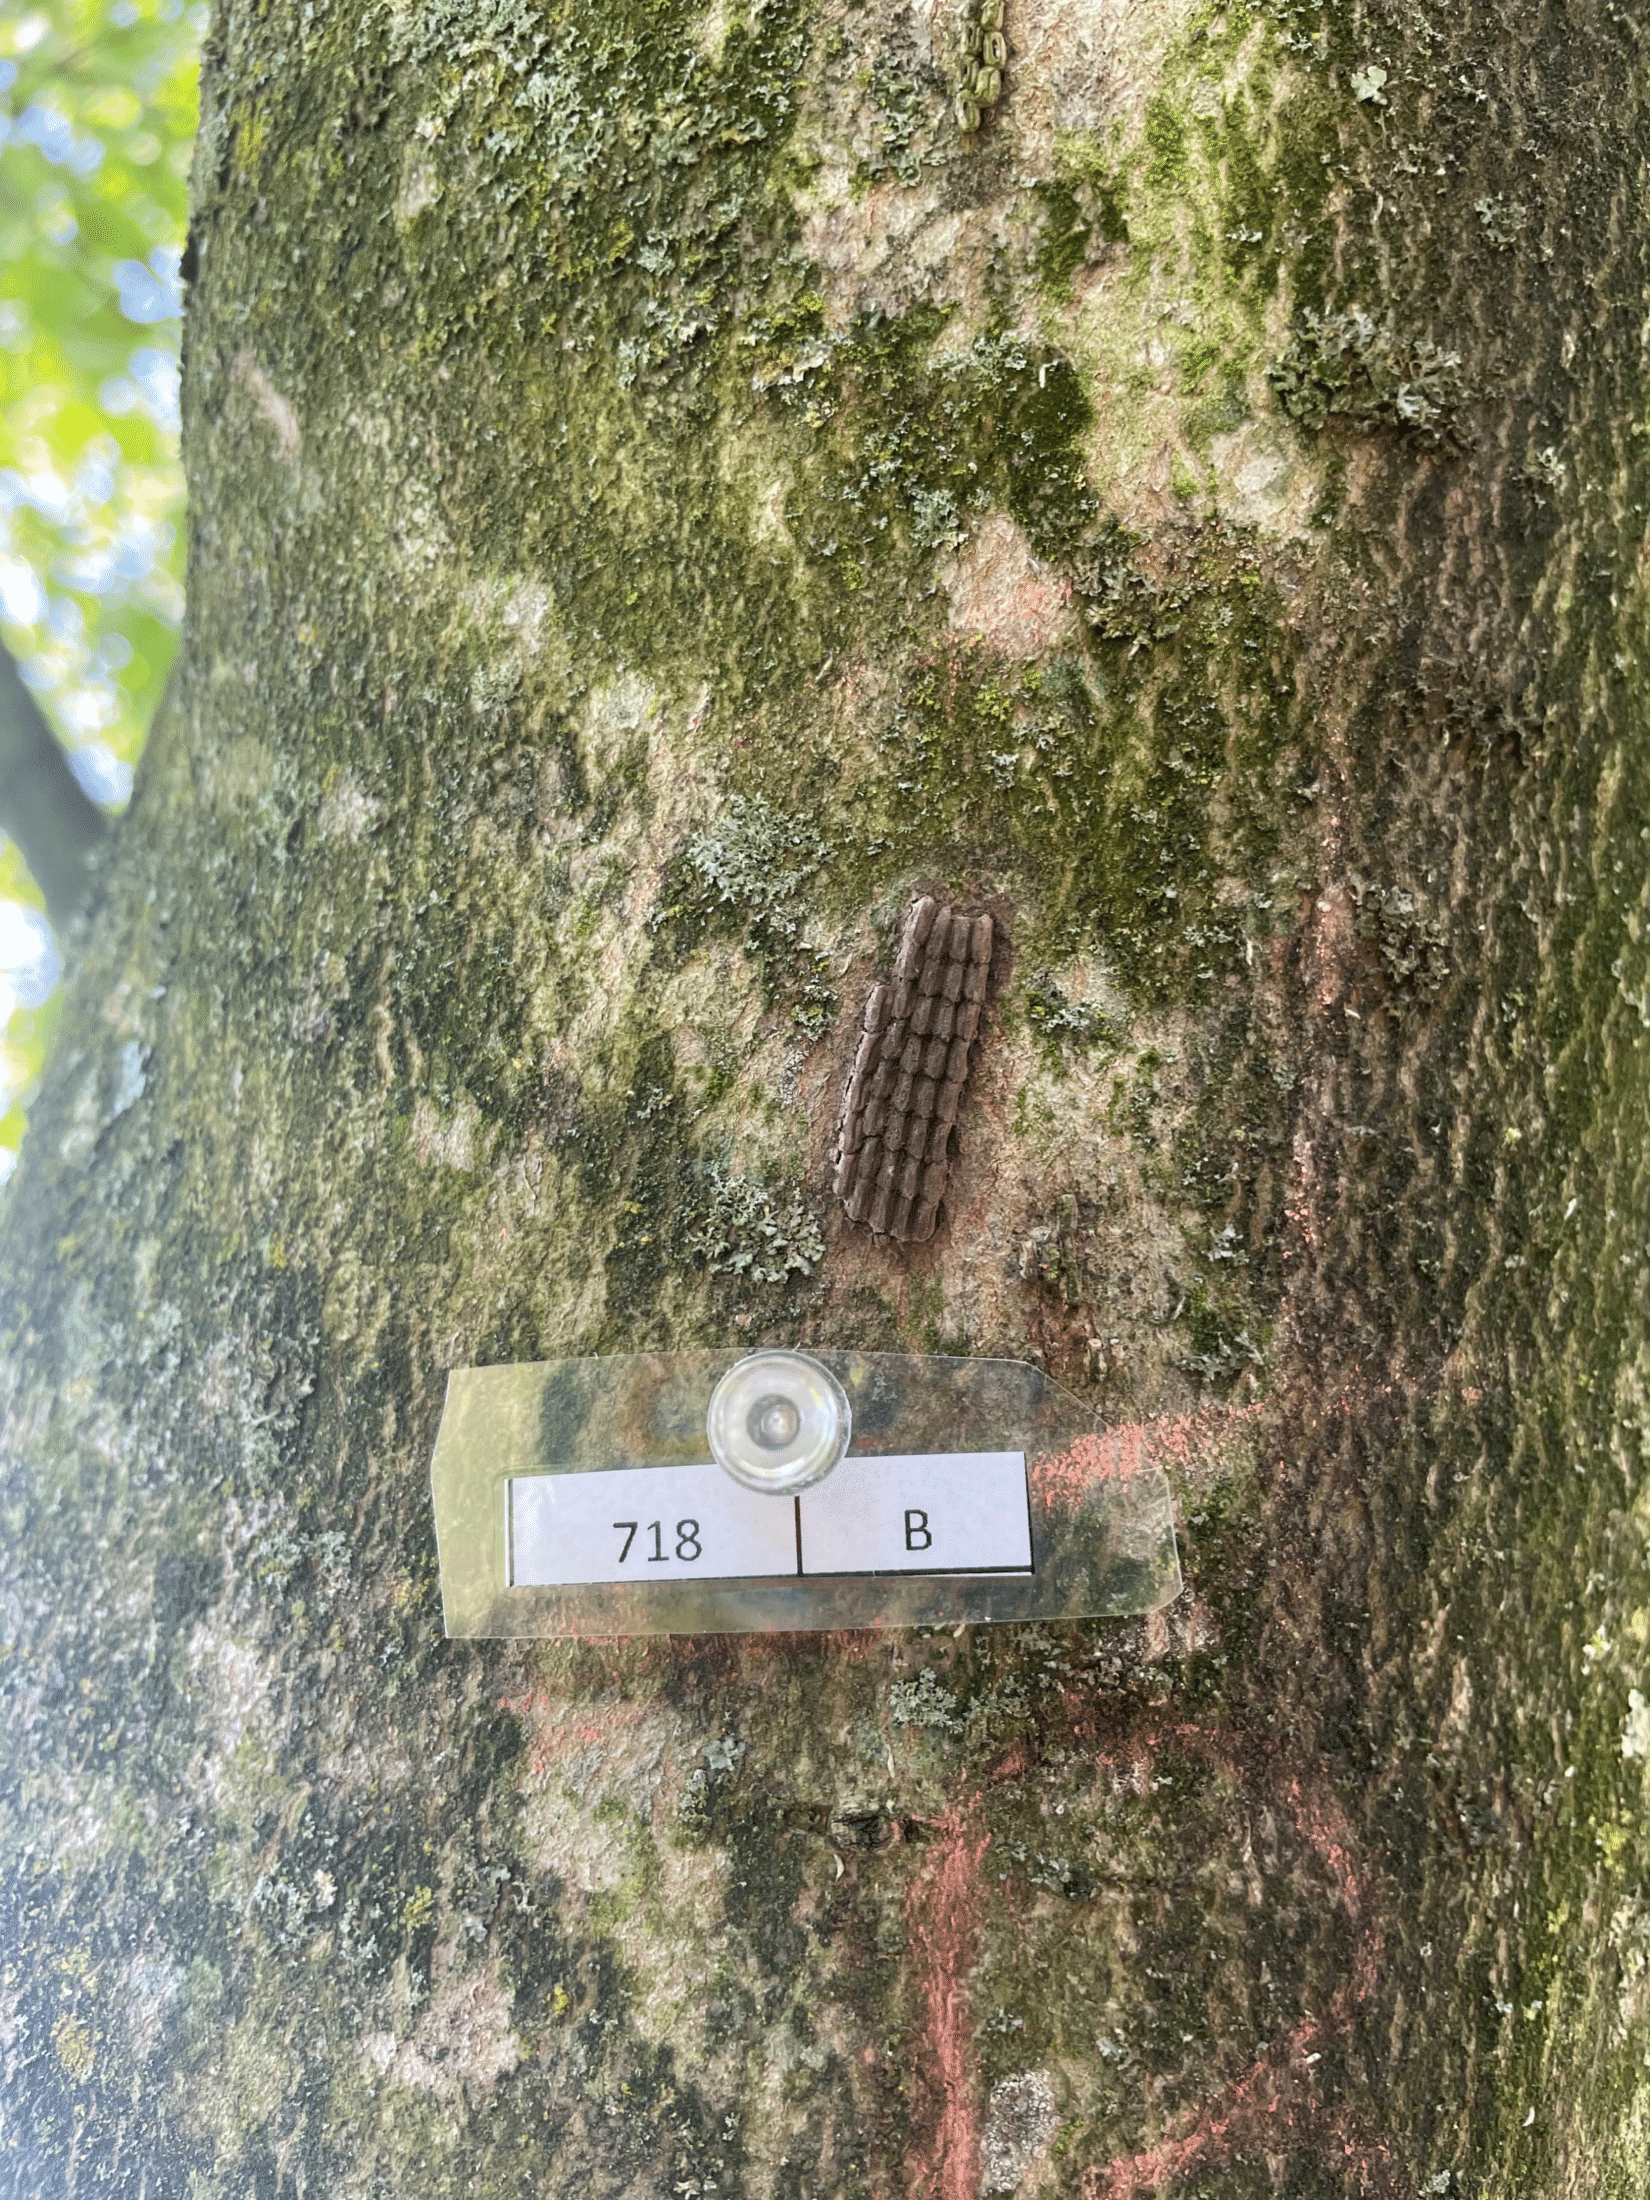egg masses: (827, 863, 1026, 1263)
